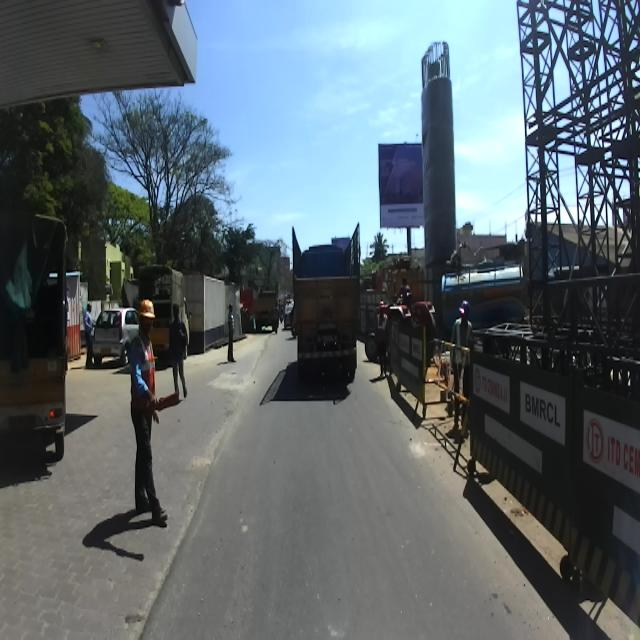barrier ahead at: (454, 356, 640, 630)
person ahead at: (120, 296, 181, 542)
truck ahead at: (282, 225, 372, 389)
